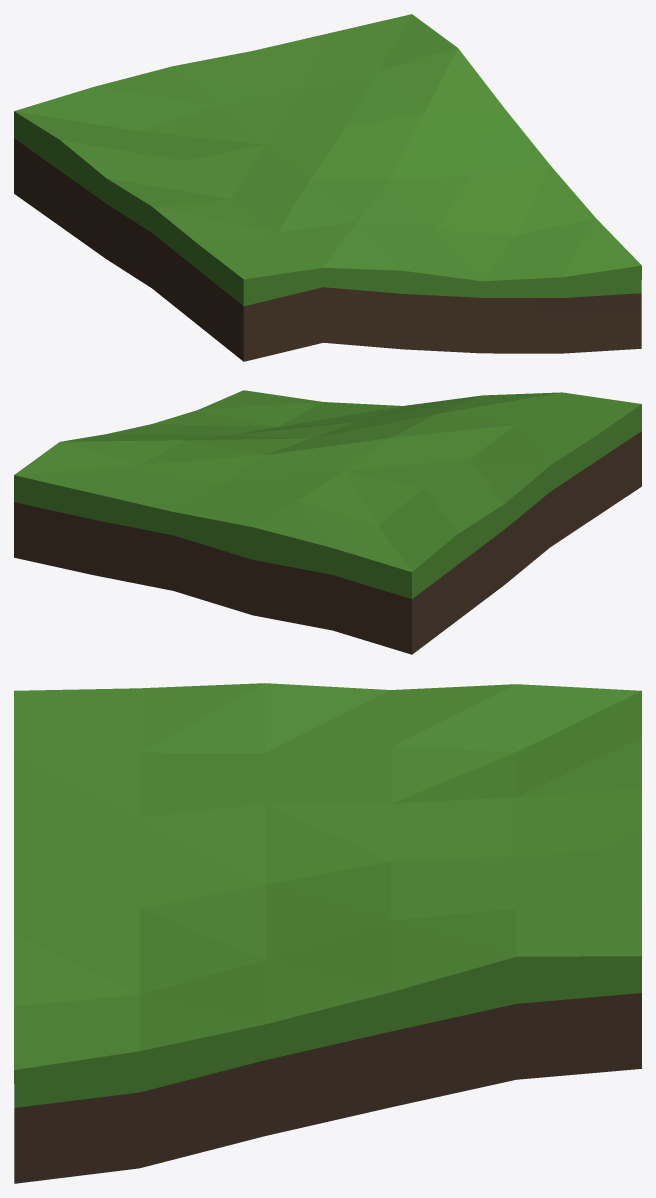
The model's file is terrain-world-valley4.glb.
3 views of the same model, one above another, from view 1: azimuth 30°, elevation 25°; view 2: azimuth 150°, elevation 25°; view 3: azimuth 270°, elevation 25° (orthographic). The views are drawn at different scales.
Parts seen in each view (by area): view 1: terrain-world-valley4; view 2: terrain-world-valley4; view 3: terrain-world-valley4.
Part boxes in pixels (x1,y1,x2,y2): terrain-world-valley4: [14, 14, 641, 361]; terrain-world-valley4: [14, 390, 641, 654]; terrain-world-valley4: [14, 683, 641, 1183].
Bounding box in the file's own units: 30.01 × 12.45 × 30.
1 material, 1 textured.
